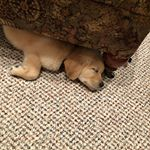puppy: (9, 36, 109, 93)
